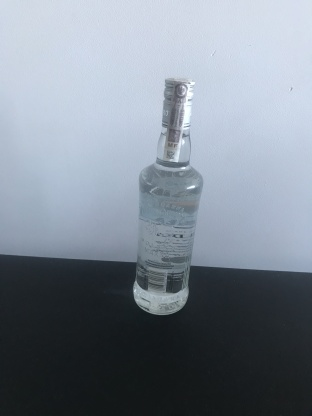nakretka: (159, 74, 197, 131)
